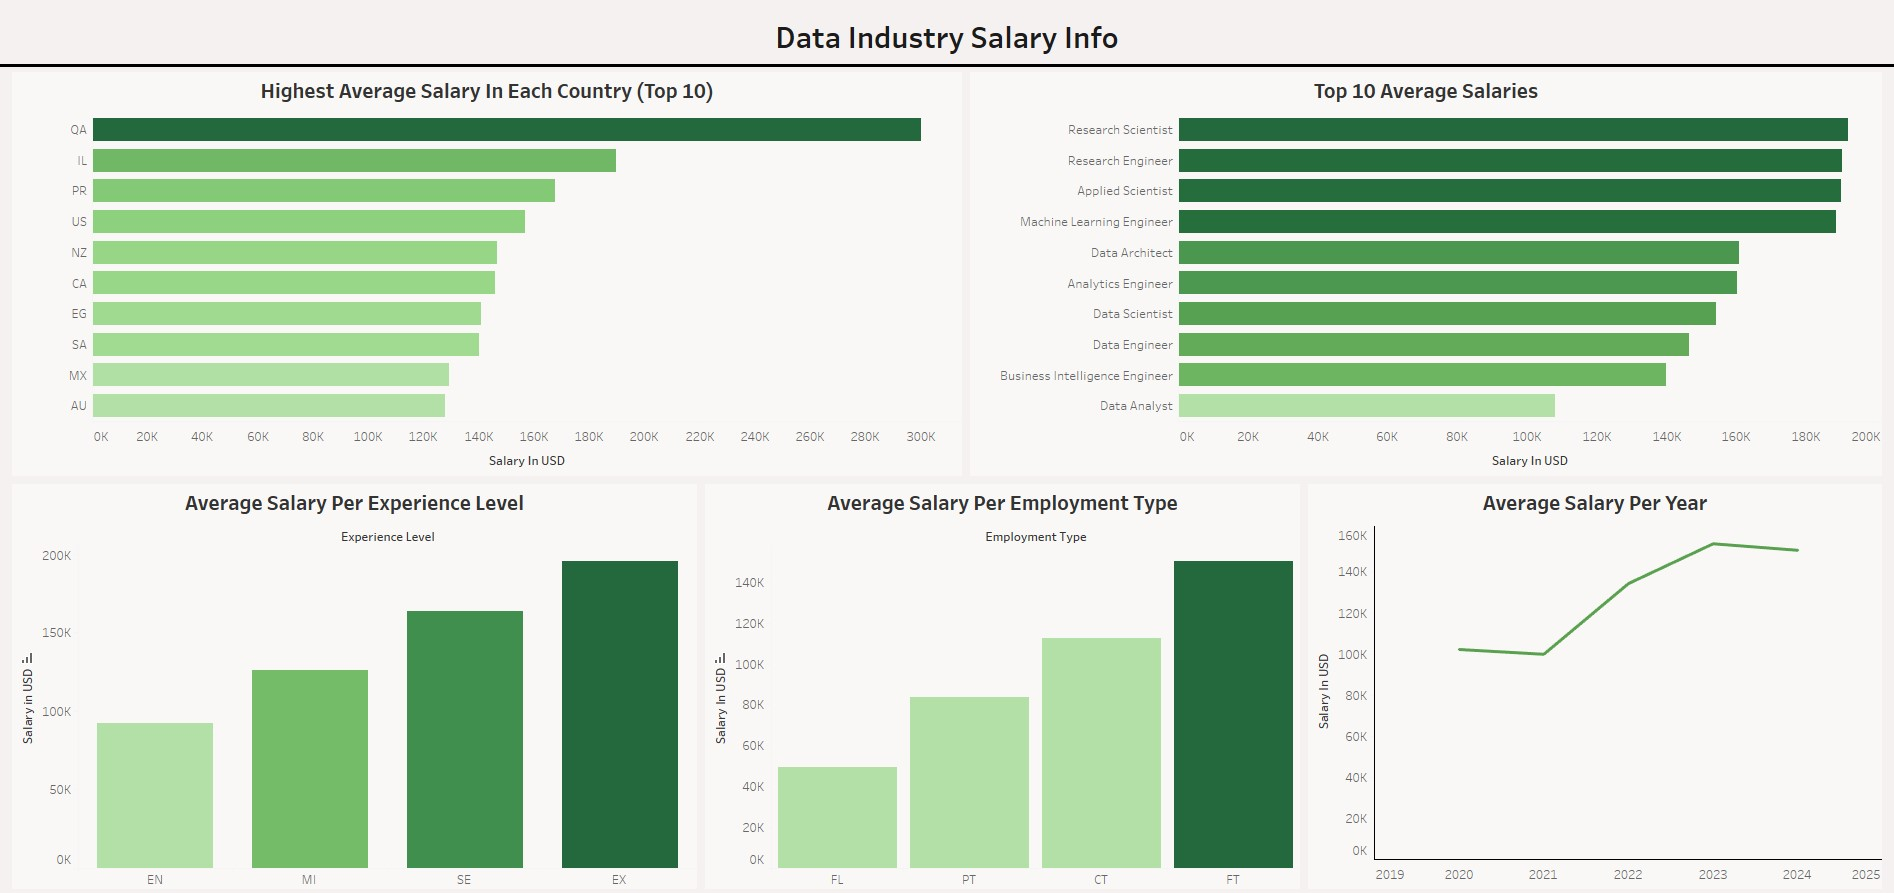

The page's visual inventory and layout, read from the dashboard file:
{"tool":"tableau","page":{"name":"Dashboard 1","canvas":[1000,1000],"units":"permille","ordinal":0},"visuals":[{"type":"text","box":[4.8,8.8,990.3,68]},{"type":"worksheet","title":"AVG Salary Per Country","mark":"Automatic","rows":["company_location"],"cols":["salary_in_usd"],"box":[4.8,76.8,490,456.7]},{"type":"worksheet","title":"Top 10 Average Salaries","mark":"Automatic","rows":["job_title"],"cols":["salary_in_usd"],"box":[494.9,76.8,500.3,456.7]},{"type":"worksheet","title":"AVG Salary Per Level","mark":"Automatic","rows":["salary_in_usd"],"cols":["experience_level"],"box":[4.8,533.5,330.7,457.7]},{"type":"worksheet","title":"Sheet 5","mark":"Automatic","rows":["salary_in_usd"],"cols":["employment_type"],"box":[335.6,533.5,399.5,457.7]},{"type":"worksheet","title":"AVG Salary Per Year In The Industry","mark":"Line","rows":["salary_in_usd"],"cols":["work_year"],"box":[735.1,533.5,260.1,457.7]}]}

Visuals, with their boxes on the dashboard's canvas, which has no fixed pixel size, in thousandths of its width and height (x1, y1, x2, y2). These are canvas units, not pixel positions in the 1894x893 screenshot, which may show the page scaled, cropped or inside an application window:
text: locate(5, 9, 995, 77)
"AVG Salary Per Country" worksheet: locate(5, 77, 495, 534)
"Top 10 Average Salaries" worksheet: locate(495, 77, 995, 534)
"AVG Salary Per Level" worksheet: locate(5, 534, 336, 991)
"Sheet 5" worksheet: locate(336, 534, 735, 991)
"AVG Salary Per Year In The Industry" worksheet (Line marks): locate(735, 534, 995, 991)
